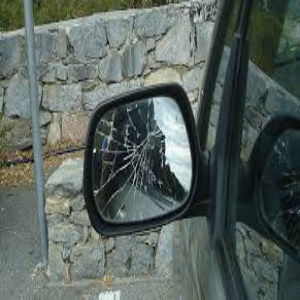side_mirror: (81, 81, 196, 240)
